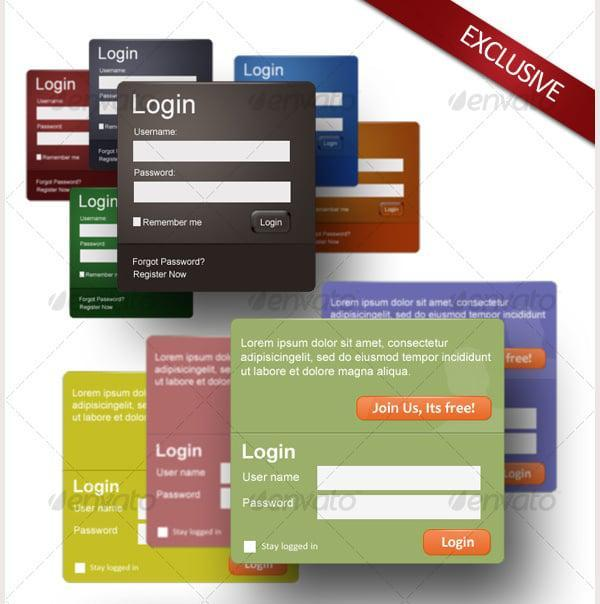button: (359, 397, 493, 423), (425, 530, 492, 557), (506, 348, 550, 372), (506, 462, 547, 486), (253, 211, 293, 233), (318, 135, 344, 150), (382, 201, 404, 218)
checkbox: (245, 542, 257, 553), (76, 563, 87, 574), (159, 528, 169, 538), (133, 218, 142, 228), (99, 124, 105, 131), (37, 155, 43, 161), (80, 273, 86, 278)
input: (318, 468, 482, 495), (317, 493, 481, 520), (136, 141, 293, 164), (135, 183, 291, 201), (38, 107, 91, 121), (40, 133, 91, 147), (81, 222, 119, 238), (82, 249, 122, 263)
label: (132, 95, 201, 120), (150, 440, 207, 463), (70, 478, 126, 499), (243, 442, 295, 464), (240, 471, 306, 486), (149, 486, 205, 503), (81, 190, 120, 214), (36, 74, 80, 95), (243, 62, 288, 81), (151, 468, 209, 482), (71, 524, 125, 539), (99, 45, 139, 65), (263, 541, 323, 554), (72, 503, 125, 516), (245, 498, 295, 511), (146, 218, 205, 229), (133, 125, 179, 139), (174, 527, 225, 539), (91, 564, 142, 575), (134, 168, 179, 180), (44, 154, 82, 164), (36, 97, 70, 106), (99, 68, 131, 77), (36, 123, 67, 132), (79, 217, 111, 225), (80, 242, 108, 250), (87, 273, 116, 280)
